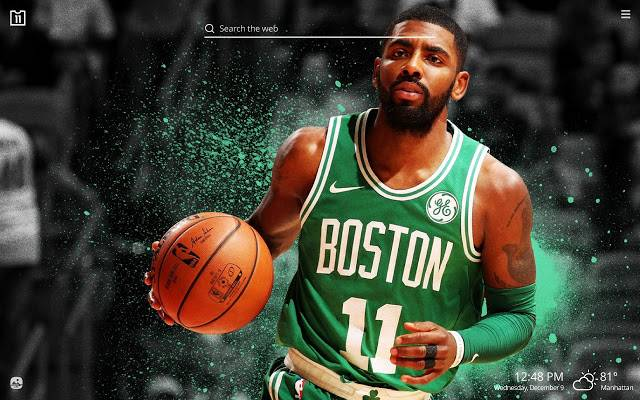ball: (150, 212, 275, 335)
